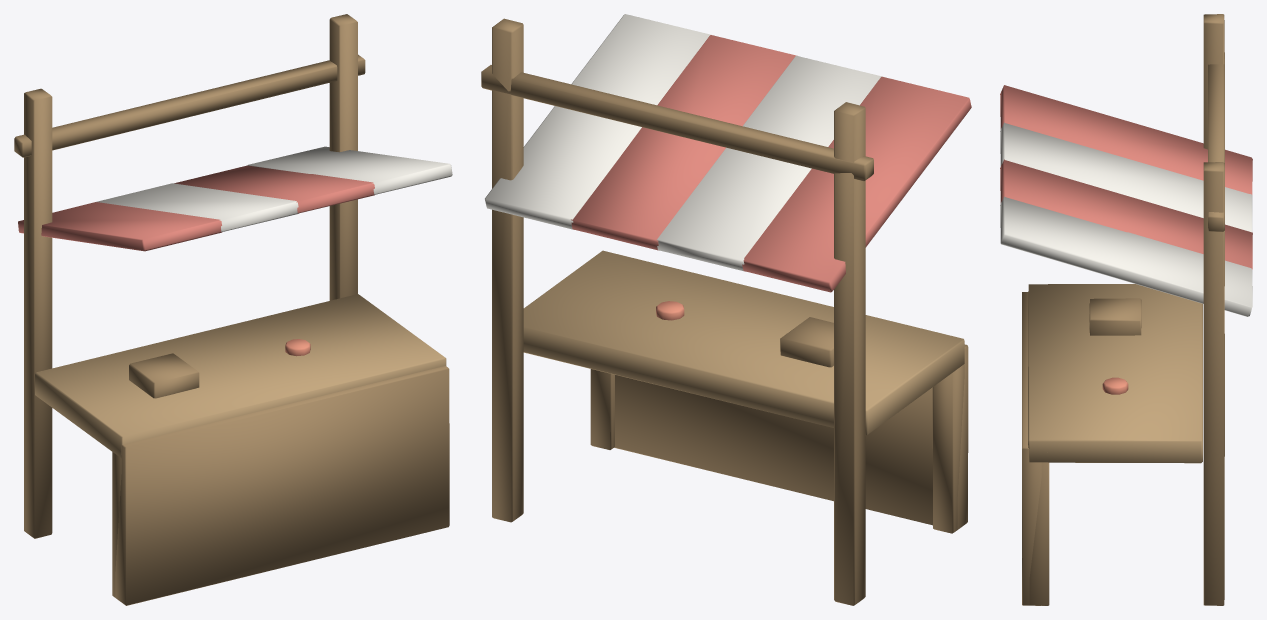
The model's file is prop_stall.glb.
The picture shows the model from 3 angles, left to right: view 1: azimuth 30°, elevation 25°; view 2: azimuth 150°, elevation 25°; view 3: azimuth 270°, elevation 25°; orthographic projection. The views are drawn at different scales.
Parts seen in each view (by area): view 1: prop_stall; view 2: prop_stall; view 3: prop_stall.
Part boxes in pixels (bbox=[...]): prop_stall: bbox=[14, 14, 452, 605]; prop_stall: bbox=[481, 14, 971, 605]; prop_stall: bbox=[1000, 14, 1252, 605].
Size of the model in its own units: 1.8 by 2.2 by 1.15.
